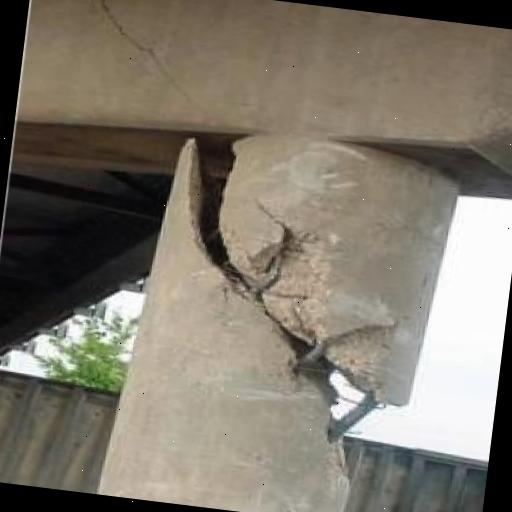spalling: (128, 138, 456, 484)
